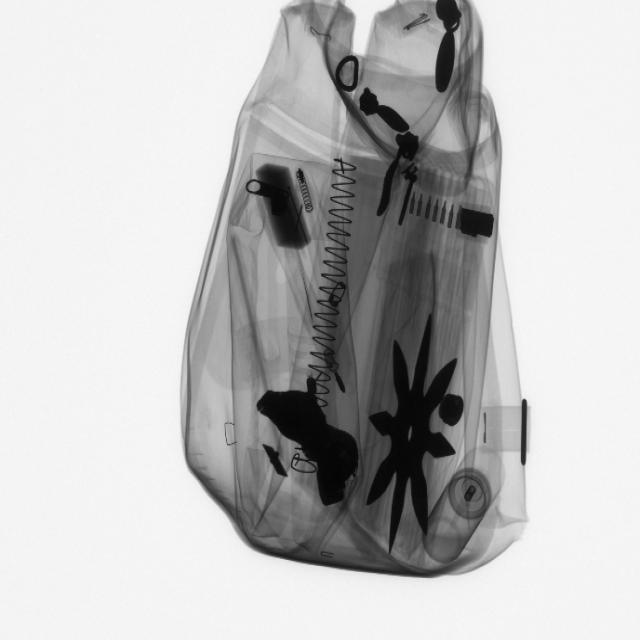SHURIKEN: (361, 317, 459, 556)
